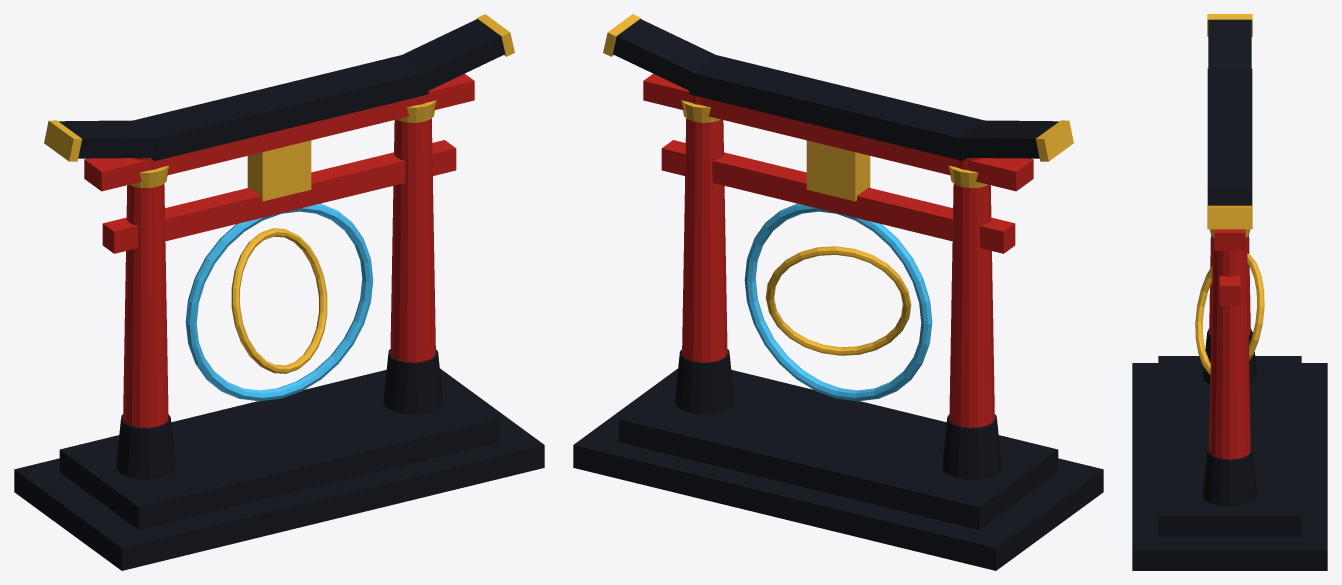
The model's file is summon_torii_gate.obj.
3 renders of one model, left to right at view 1: azimuth 30°, elevation 25°; view 2: azimuth 150°, elevation 25°; view 3: azimuth 270°, elevation 25°, orthographic. The views are drawn at different scales.
Parts seen in each view (by area): view 1: SummonToriiGate; view 2: SummonToriiGate; view 3: SummonToriiGate.
Boxes of the visible parts, x1,y1,x2,y2 form: SummonToriiGate: (14,14,544,570); SummonToriiGate: (573,14,1103,570); SummonToriiGate: (1132,14,1327,570).
Size of the model in its own units: 25.6 by 22.14 by 10.71.
